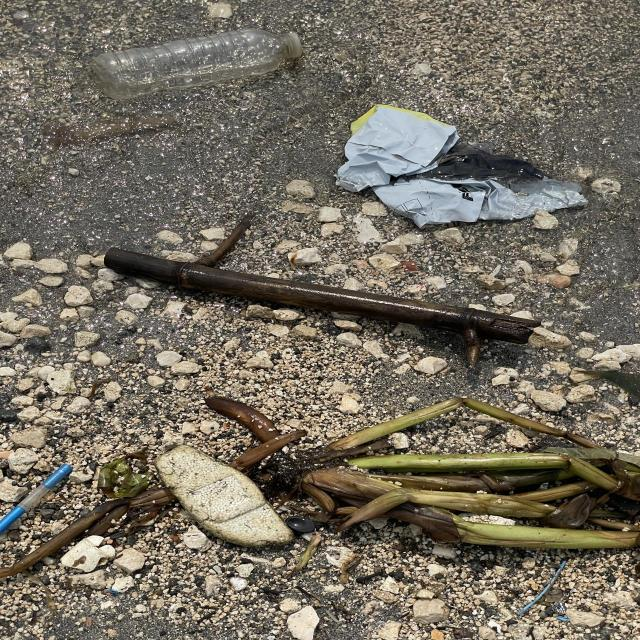plastic_waste: (333, 105, 593, 229), (94, 27, 310, 106)
